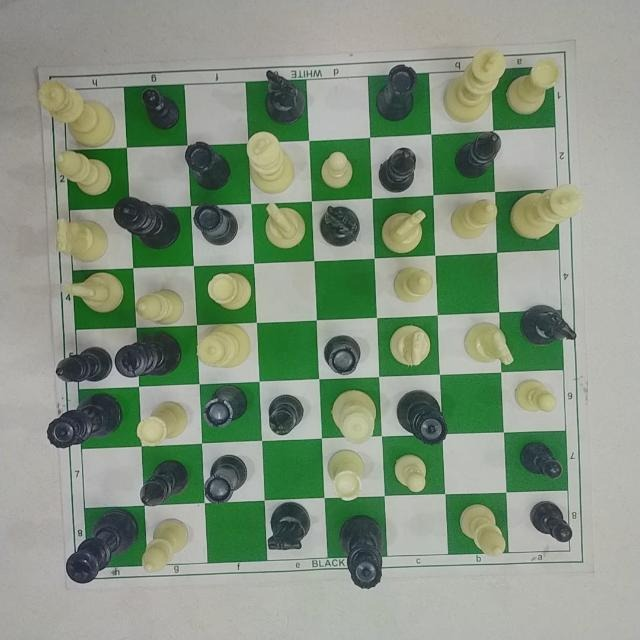black-bishop: (449, 129, 507, 185), (51, 335, 111, 385), (137, 457, 192, 505), (375, 141, 417, 196), (266, 389, 308, 437)
black-king: (62, 507, 137, 589), (111, 195, 185, 253), (113, 326, 188, 381)
black-knight: (512, 305, 573, 360), (266, 497, 310, 557), (261, 67, 306, 124), (314, 202, 366, 250)
black-pawn: (530, 494, 575, 553), (518, 438, 566, 482), (144, 86, 184, 136)
black-queen: (45, 387, 121, 452), (337, 508, 385, 593), (395, 389, 451, 447)
black-rook: (373, 56, 423, 126), (203, 451, 253, 507), (180, 136, 232, 189), (202, 382, 252, 437), (323, 329, 371, 377), (192, 202, 241, 248)
white-bishop: (453, 499, 509, 571), (138, 513, 190, 582), (48, 149, 114, 201), (446, 192, 500, 247), (135, 282, 187, 324), (391, 263, 439, 302)
white-king: (439, 45, 506, 125), (506, 181, 586, 244), (244, 128, 302, 192)
white-knight: (66, 269, 128, 318), (52, 212, 107, 264), (375, 201, 425, 256), (460, 321, 514, 371), (260, 195, 303, 257), (386, 320, 433, 372)
white-pawn: (389, 448, 428, 494), (315, 148, 354, 191), (511, 379, 557, 415)
white-queen: (38, 81, 117, 147), (197, 324, 253, 374), (333, 388, 381, 442)
white-rook: (503, 57, 564, 119), (132, 394, 186, 452), (324, 447, 366, 503), (206, 269, 254, 317)
